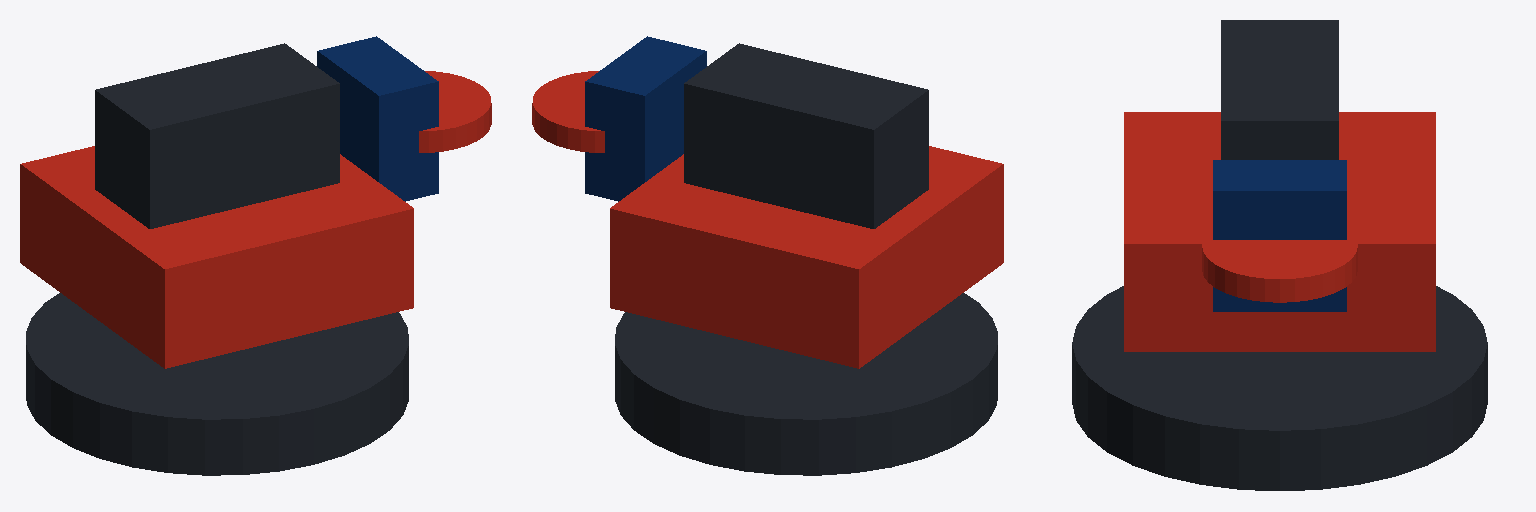
robot.urdf — camera_gimbal:
<?xml version="1.0"?>
<robot name="camera_gimbal" version="1.2">
  <material name="housing">
    <color rgba="0.18 0.2 0.23 1"/>
  </material>
  <material name="accent">
    <color rgba="0.78 0.21 0.15 1"/>
  </material>
  <material name="lens">
    <color rgba="0.08 0.22 0.42 1"/>
  </material>
  <link name="base_link">
    <inertial><origin xyz="0 0 0" rpy="0 0 0"/><mass value="3.2"/><inertia ixx="0.01" ixy="0" ixz="0" iyy="0.01" iyz="0" izz="0.01"/></inertial>
    <visual><origin xyz="0 0 0" rpy="0 0 0"/><geometry><cylinder radius="0.28" length="0.09"/></geometry><material name="housing"/></visual>
    <collision><origin xyz="0 0 0" rpy="0 0 0"/><geometry><cylinder radius="0.28" length="0.09"/></geometry></collision>
  </link>
  <link name="yaw_frame">
    <inertial><origin xyz="0 0 0" rpy="0 0 0"/><mass value="1.5"/><inertia ixx="0.01" ixy="0" ixz="0" iyy="0.01" iyz="0" izz="0.01"/></inertial>
    <visual><origin xyz="0 0 0.12" rpy="0 0 0"/><geometry><mesh filename="meshes/yaw-housing.obj"/></geometry><material name="accent"/></visual>
    <collision><origin xyz="0 0 0.12" rpy="0 0 0"/><geometry><box size="0.42 0.42 0.16"/></geometry></collision>
  </link>
  <link name="pitch_frame">
    <inertial><origin xyz="0 0 0" rpy="0 0 0"/><mass value="0.9"/><inertia ixx="0.01" ixy="0" ixz="0" iyy="0.01" iyz="0" izz="0.01"/></inertial>
    <visual><origin xyz="0 0 0" rpy="0 0 0"/><geometry><box size="0.32 0.16 0.24"/></geometry><material name="housing"/></visual>
    <collision><origin xyz="0 0 0" rpy="0 0 0"/><geometry><box size="0.32 0.16 0.24"/></geometry></collision>
  </link>
  <link name="camera_optical">
    <inertial><origin xyz="0 0 0" rpy="0 0 0"/><mass value="0.35"/><inertia ixx="0.01" ixy="0" ixz="0" iyy="0.01" iyz="0" izz="0.01"/></inertial>
    <visual><origin xyz="0.11 0 0" rpy="0 1.5708 0"/><geometry><mesh filename="meshes/lens.dae"/></geometry><material name="lens"/></visual>
    <collision><origin xyz="0.11 0 0" rpy="0 1.5708 0"/><geometry><cylinder radius="0.09" length="0.1"/></geometry></collision>
  </link>
  <link name="focus_ring">
    <inertial><origin xyz="0 0 0" rpy="0 0 0"/><mass value="0.08"/><inertia ixx="0.01" ixy="0" ixz="0" iyy="0.01" iyz="0" izz="0.01"/></inertial>
    <visual><origin xyz="0 0 0" rpy="0 1.5708 0"/><geometry><cylinder radius="0.105" length="0.035"/></geometry><material name="accent"/></visual>
    <collision><origin xyz="0 0 0" rpy="0 1.5708 0"/><geometry><cylinder radius="0.105" length="0.035"/></geometry></collision>
  </link>
  <joint name="yaw_joint" type="continuous"><parent link="base_link"/><child link="yaw_frame"/><origin xyz="0 0 0.09" rpy="0 0 0"/><axis xyz="0 0 1"/></joint>
  <joint name="pitch_joint" type="revolute"><parent link="yaw_frame"/><child link="pitch_frame"/><origin xyz="0 0 0.24" rpy="0 0 0"/><axis xyz="0 1 0"/><limit lower="-1.4" upper="1.4" effort="8" velocity="2.5"/><dynamics damping="0.08" friction="0.02"/></joint>
  <joint name="camera_joint" type="fixed"><parent link="pitch_frame"/><child link="camera_optical"/><origin xyz="0.16 0 0" rpy="0 0 0"/></joint>
  <joint name="focus_joint" type="continuous"><parent link="camera_optical"/><child link="focus_ring"/><origin xyz="0.18 0 0" rpy="0 1.5708 0"/><axis xyz="1 0 0"/><mimic joint="yaw_joint" multiplier="0.12" offset="0"/></joint>
  <ros2_control name="GimbalSystem" type="system"><hardware><plugin>mock_components/GenericSystem</plugin></hardware><joint name="yaw_joint"><command_interface name="position"/><state_interface name="position"/></joint><joint name="pitch_joint"><command_interface name="position"/><state_interface name="position"/></joint></ros2_control>
</robot>

--- Render facts (derived) ---
3 views of the same robot in one strip: view 1: azimuth 30°, elevation 25°; view 2: azimuth 150°, elevation 25°; view 3: azimuth 270°, elevation 25° (orthographic).
Robot: camera_gimbal — 5 links, 4 joints (1 revolute, 2 continuous, 1 fixed); root link base_link; default pose: every joint at zero.
Visible links, largest first — view 1: yaw_frame, base_link, pitch_frame, camera_optical, focus_ring; view 2: yaw_frame, base_link, pitch_frame, camera_optical, focus_ring; view 3: base_link, yaw_frame, pitch_frame, camera_optical, focus_ring.
Link boxes in pixels (box(x1,y1,x2,y2)): yaw_frame: box(20, 146, 413, 368); base_link: box(26, 293, 408, 475); pitch_frame: box(95, 43, 339, 228); camera_optical: box(317, 36, 438, 201); focus_ring: box(419, 71, 491, 152); yaw_frame: box(610, 146, 1003, 368); base_link: box(615, 293, 997, 475); pitch_frame: box(684, 43, 928, 228); camera_optical: box(585, 36, 706, 201); focus_ring: box(532, 71, 604, 152); base_link: box(1072, 286, 1487, 490); yaw_frame: box(1124, 112, 1435, 351); pitch_frame: box(1221, 20, 1338, 159); camera_optical: box(1213, 160, 1346, 311); focus_ring: box(1202, 230, 1357, 302).
Bounding box of the posed robot: 0.725 × 0.56 × 0.495 m (x, y, z).
2 mesh visuals loaded from 2 distinct referenced files (1 Collada DAE, 1 OBJ).
